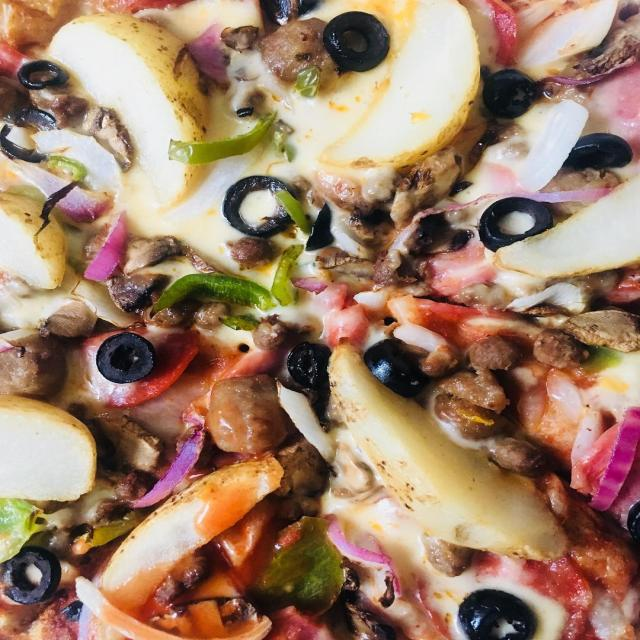black_olives: (220, 168, 298, 242), (467, 191, 549, 250), (320, 7, 392, 74), (454, 583, 536, 640), (0, 550, 75, 604), (89, 328, 160, 384), (478, 62, 539, 118), (4, 108, 65, 164), (571, 133, 633, 176), (5, 52, 73, 91), (284, 341, 334, 389), (300, 199, 340, 254), (622, 500, 640, 544)
mushrooms: (333, 558, 405, 640), (80, 102, 138, 171), (127, 235, 214, 280), (110, 420, 164, 469), (32, 85, 85, 127), (109, 277, 166, 316), (215, 19, 263, 57)
pepperoni: (362, 338, 431, 398)
pizza: (0, 0, 639, 639)
